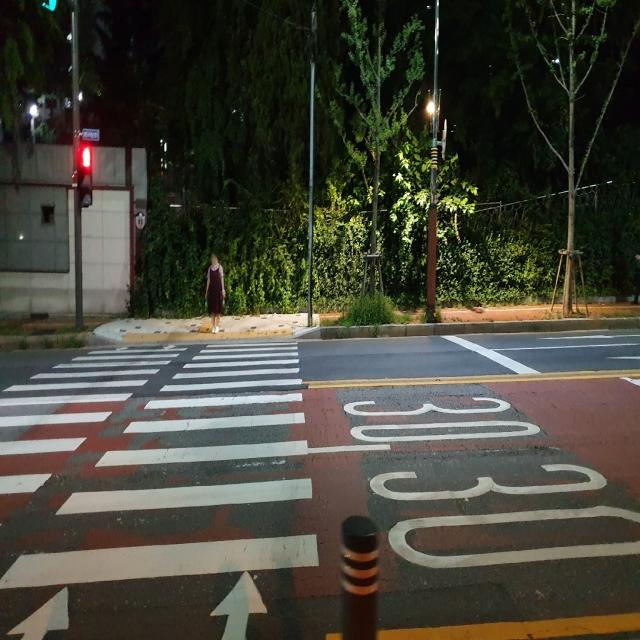빨간불: (76, 136, 96, 217)
횡단보도: (0, 341, 321, 639)
